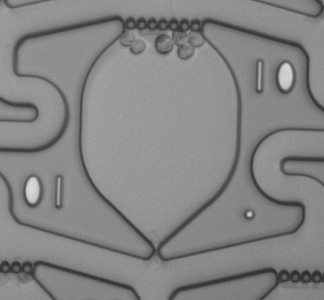AptNum: (243, 54, 305, 99)
Marker: (236, 201, 266, 228)
StNum: (14, 168, 76, 218)
